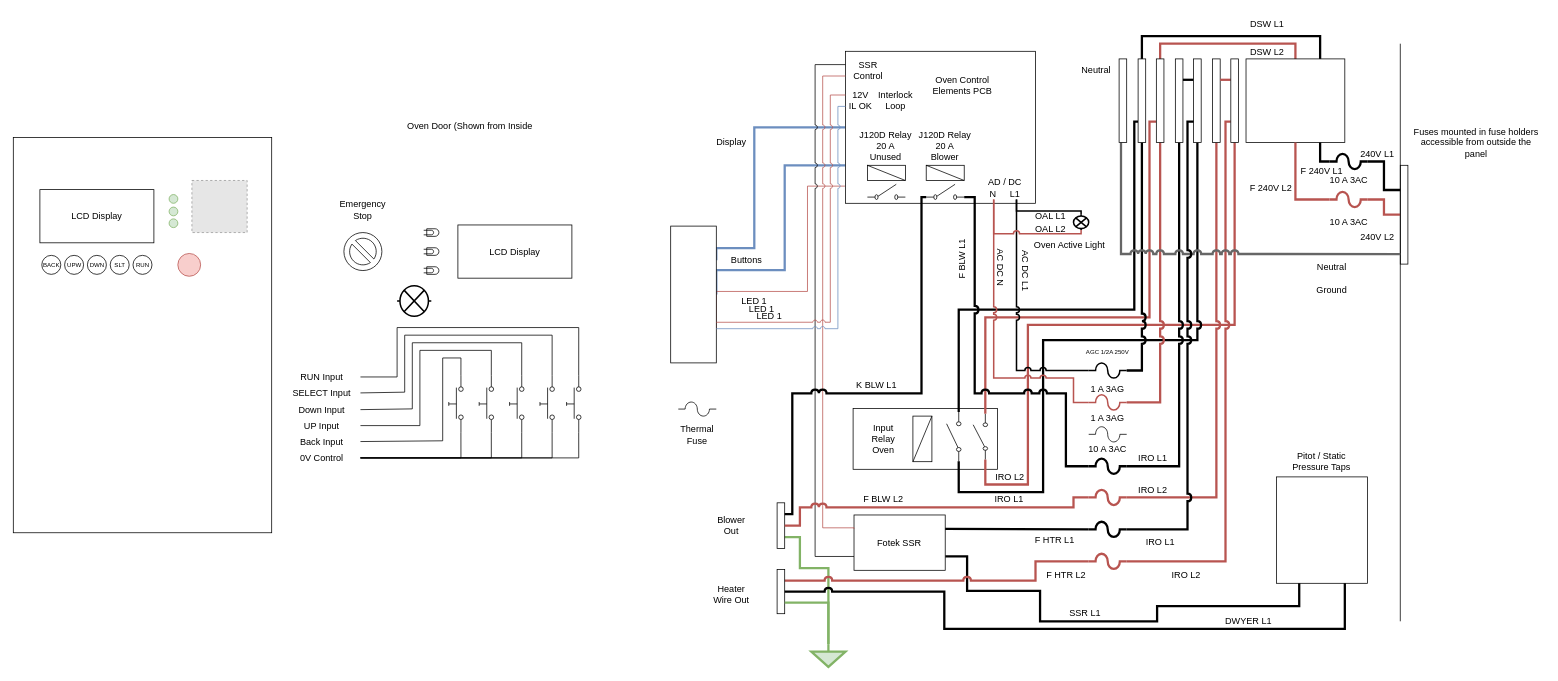
This 1558x681 diagram has some shape labels left out. Grey dashed boxes stand in for pictures. Each missing label, with the centre of its shape:
"Door Switch" belongs at (1295,100).
"Dwyer Pressure Switch" belongs at (1322,529).
"To Door" belongs at (693,294).
